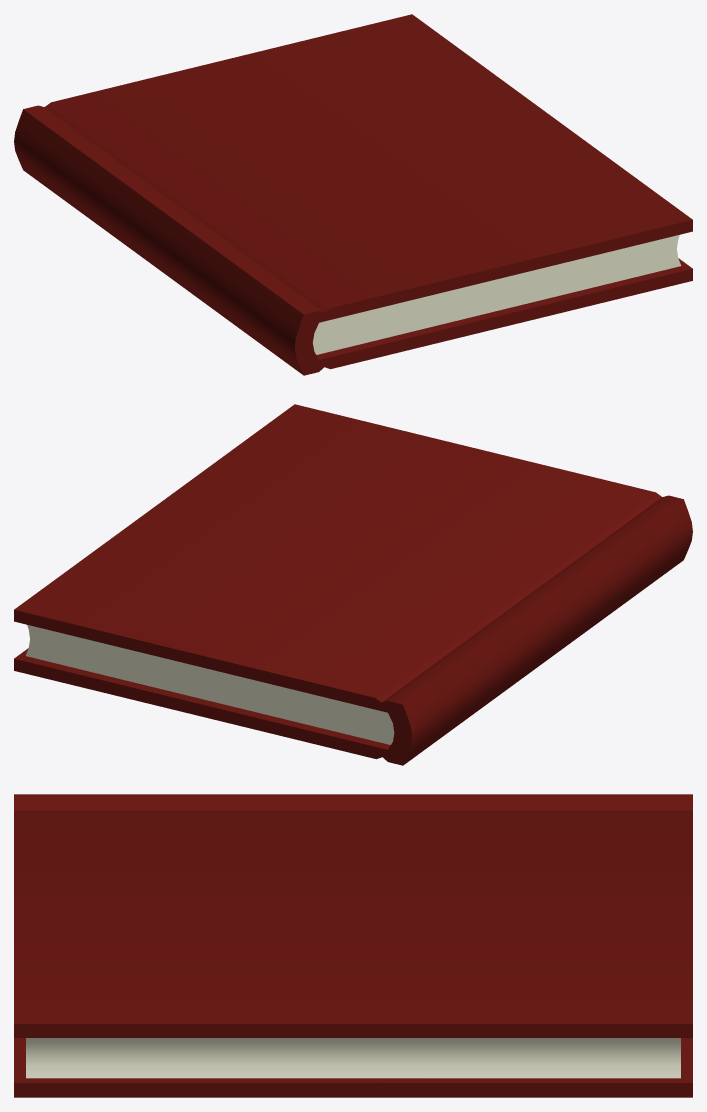
File: Book_Closed.fbx
The picture shows the model from 3 angles, top to bottom: view 1: azimuth 30°, elevation 25°; view 2: azimuth 150°, elevation 25°; view 3: azimuth 270°, elevation 25°; orthographic projection. The views are drawn at different scales.
Visible parts, largest first — view 1: Book_Close; view 2: Book_Close; view 3: Book_Close.
Boxes of the visible parts, box(x1,y1,x2,y2) form: Book_Close: box(14, 14, 692, 375); Book_Close: box(14, 404, 692, 765); Book_Close: box(14, 794, 692, 1097).
Bounding box in the file's own units: 0.2047 × 0.03 × 0.25.
